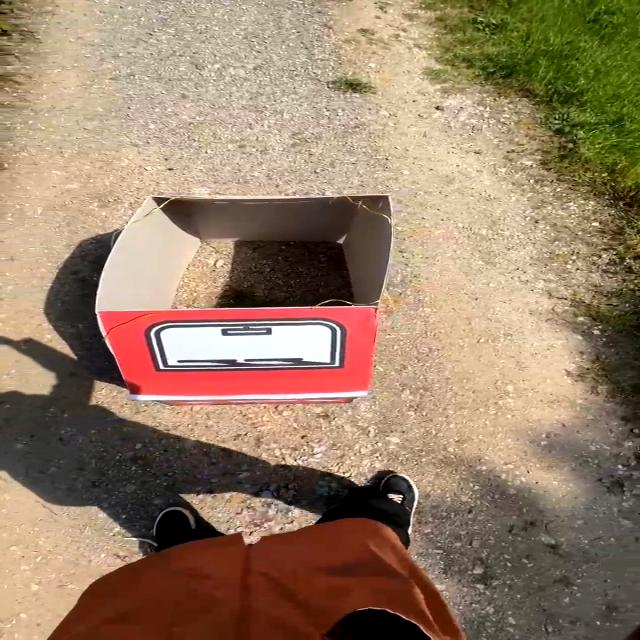red_car: (22, 162, 450, 414)
